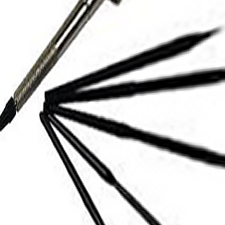screwdriver: (3, 1, 127, 145)
